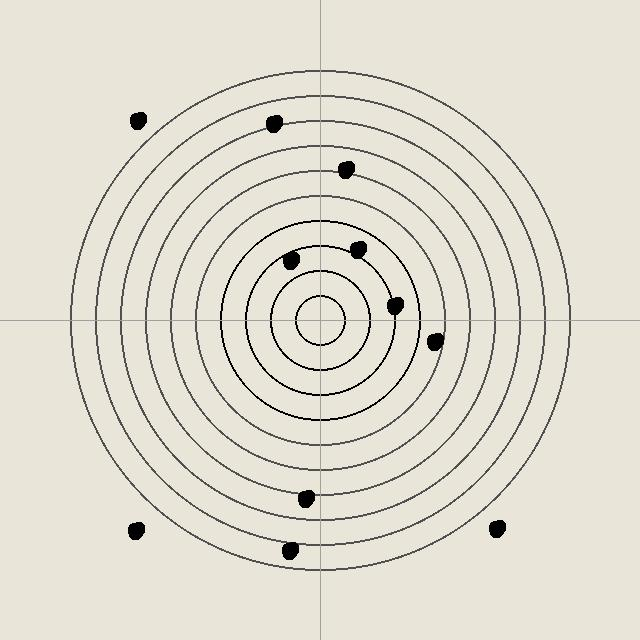random_scatter: (280, 250, 300, 270), (335, 159, 355, 179), (347, 239, 367, 259), (125, 520, 145, 540), (486, 518, 506, 538), (384, 295, 404, 315), (279, 540, 299, 560), (263, 113, 283, 133), (424, 331, 444, 351), (295, 488, 315, 508), (127, 110, 147, 130)
